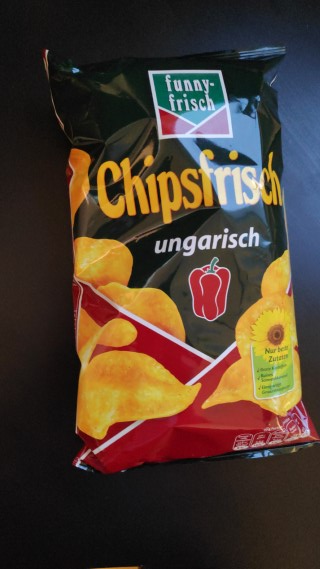chipsfrisch: (37, 39, 320, 477)
